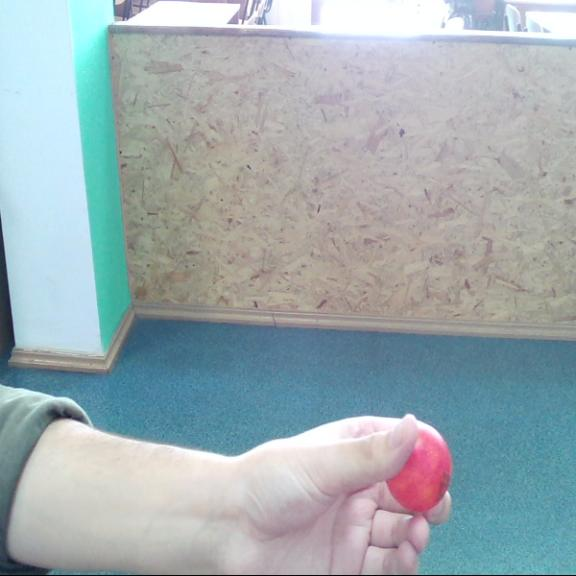ball: (380, 414, 454, 510)
